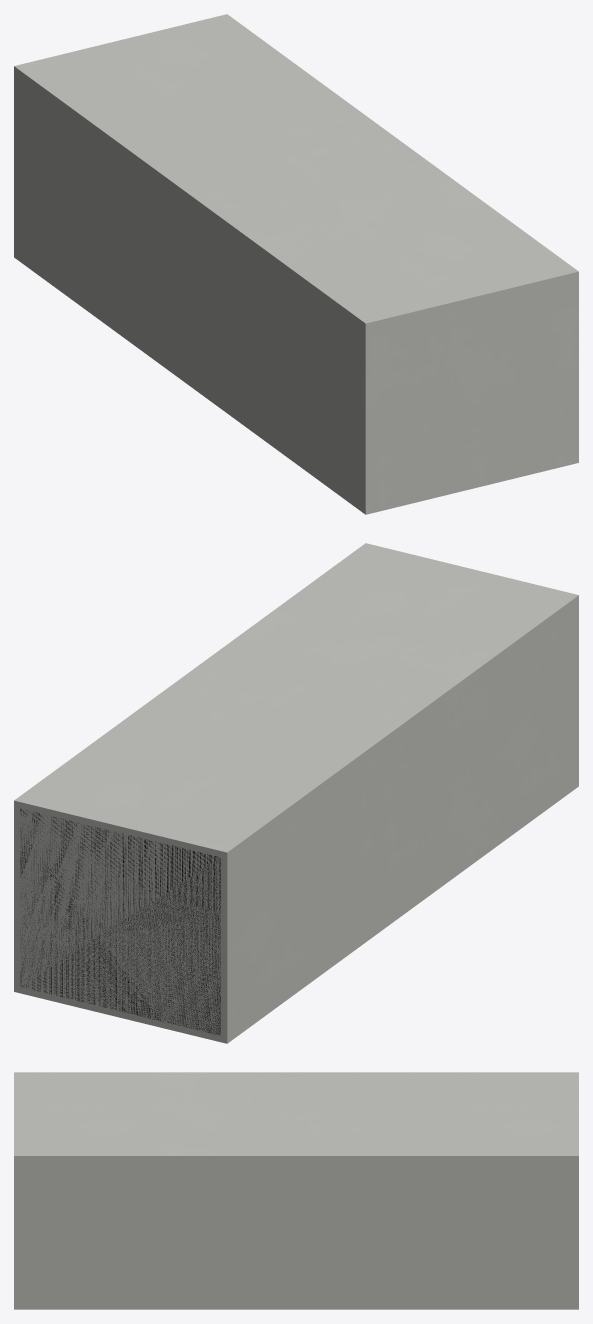
The model's file is cabinet_controller.glb.
3 renders of one model, top to bottom at view 1: azimuth 30°, elevation 25°; view 2: azimuth 150°, elevation 25°; view 3: azimuth 270°, elevation 25°, orthographic. The views are drawn at different scales.
Visible parts, largest first — view 1: cabinet_controller; view 2: cabinet_controller; view 3: cabinet_controller.
Boxes of the visible parts, x1,y1,x2,y2 form: cabinet_controller: (14,14,578,514); cabinet_controller: (14,543,578,1043); cabinet_controller: (14,1072,578,1309).
Bounding box in the file's own units: 0.7 × 0.6 × 2.
2 materials, 1 textured.
